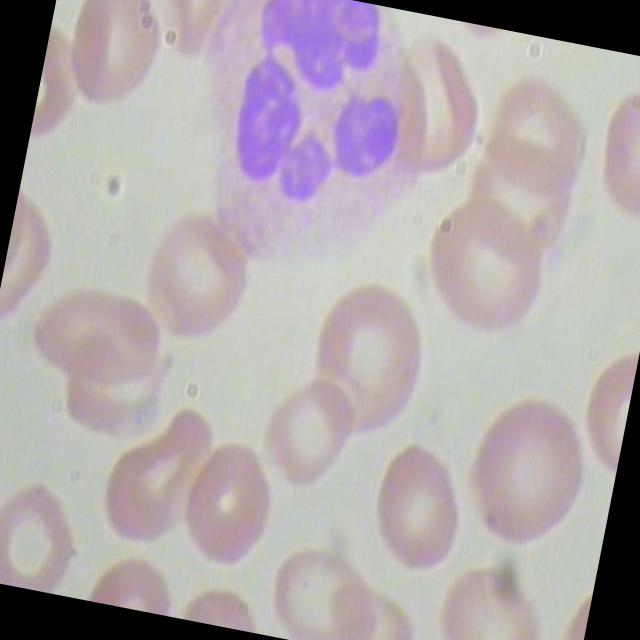RBC: (449, 381, 604, 562), (407, 189, 560, 357), (298, 271, 432, 450), (90, 392, 218, 560), (130, 204, 261, 358), (18, 275, 168, 402), (356, 431, 479, 581), (172, 429, 284, 581), (253, 368, 358, 508), (52, 0, 175, 118), (257, 531, 388, 640), (0, 469, 84, 596), (587, 76, 640, 241)
WBC: (172, 0, 457, 291)
